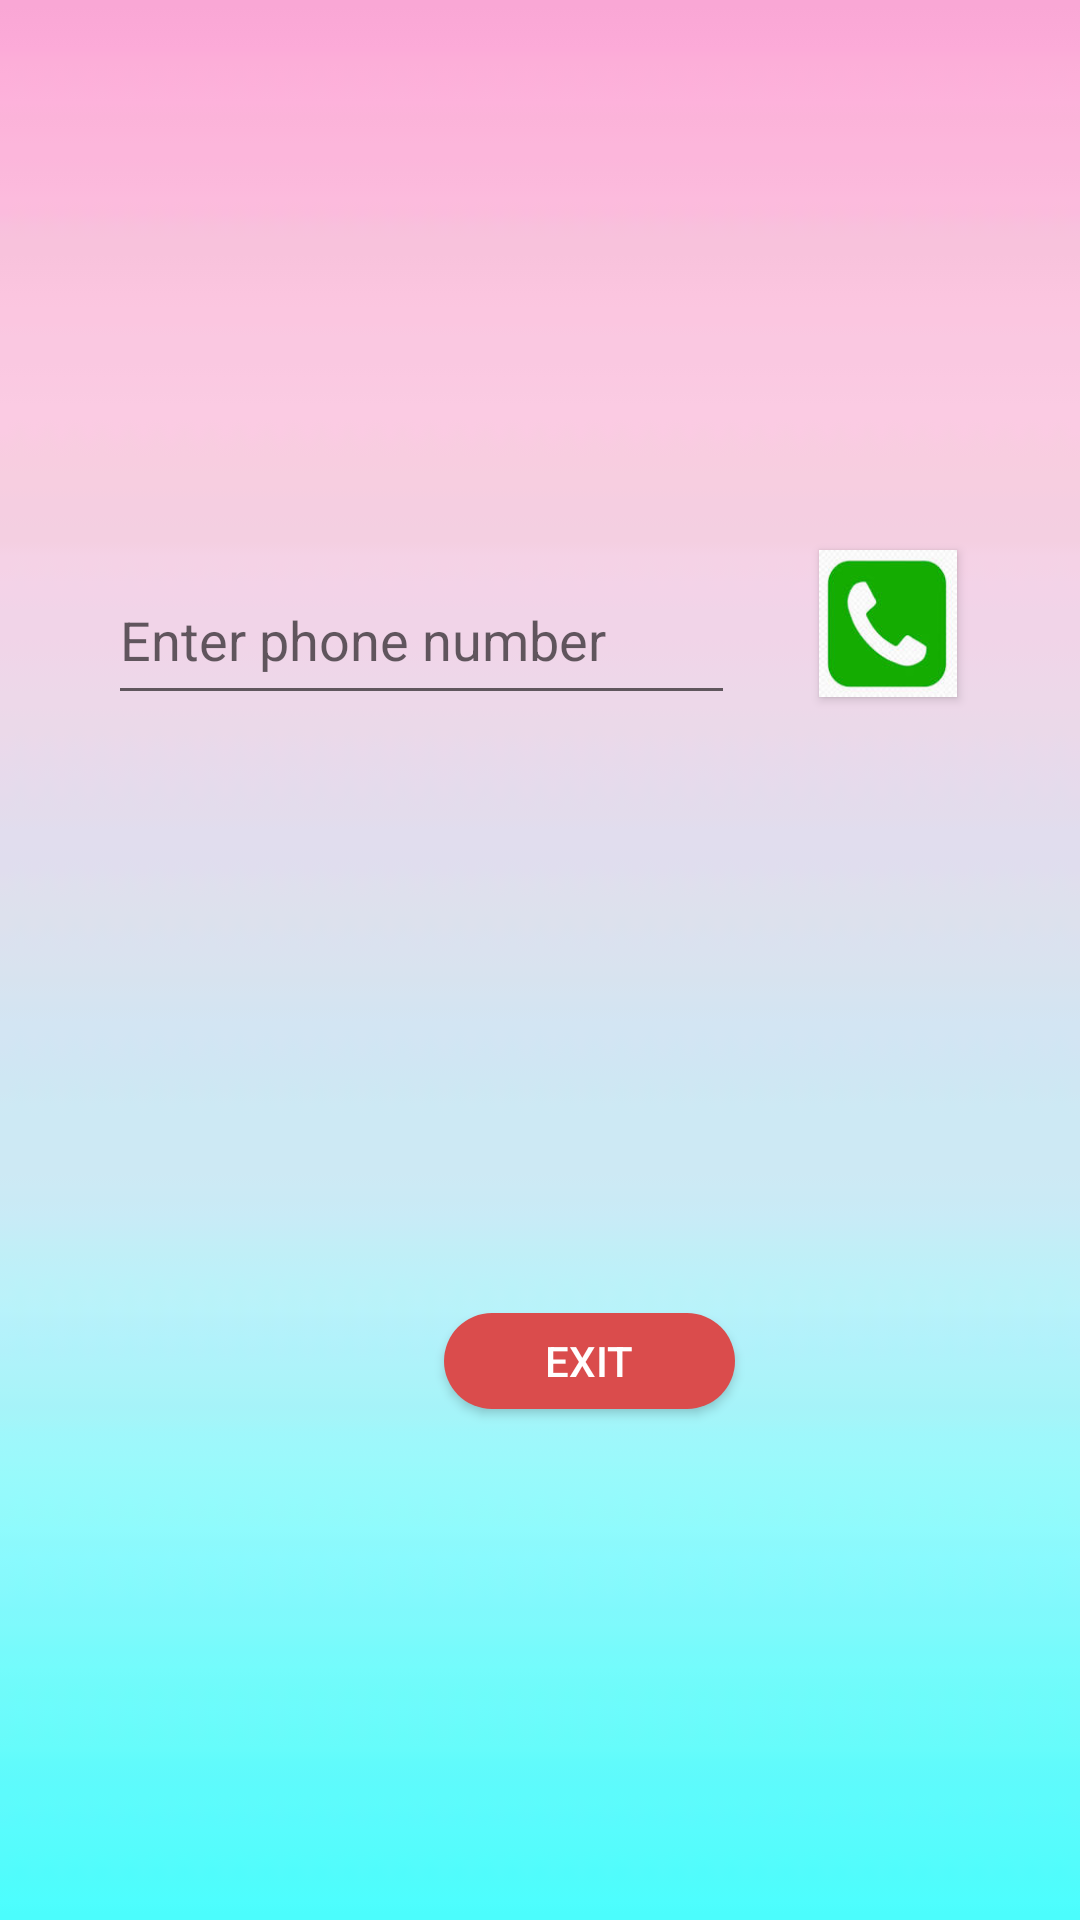

Where icons sit on this 1080px×1920px app screen, as bbox=[x1, y1, x2, y2]:
call: bbox=[819, 550, 957, 697]
